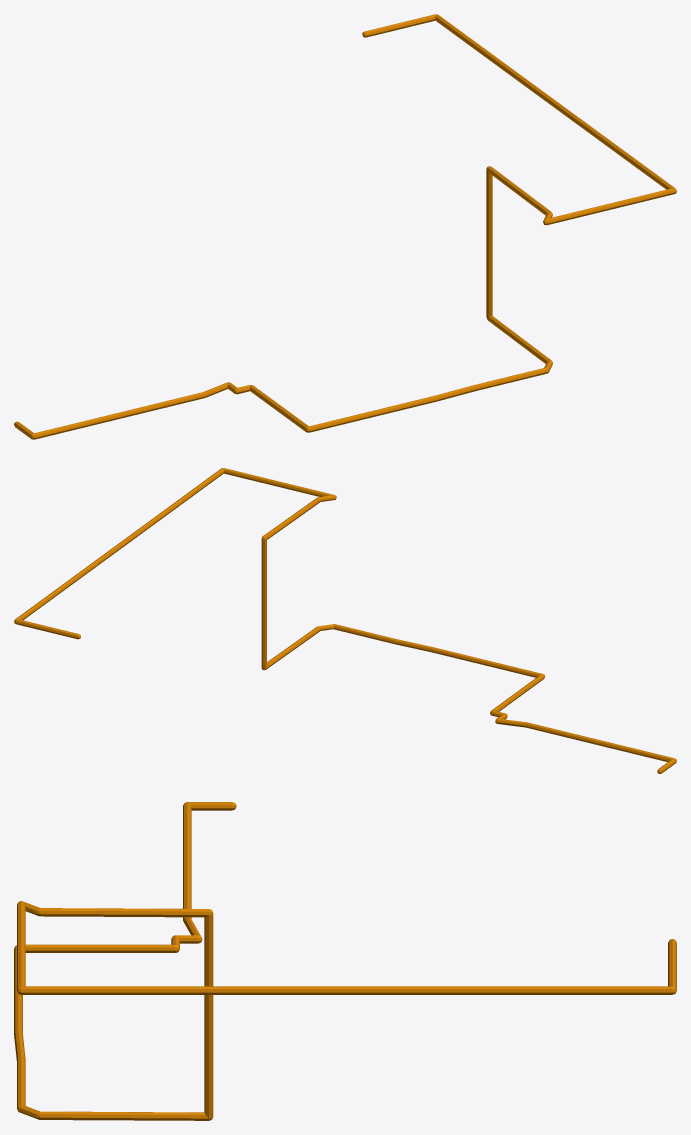
3 views of the same model, one above another, from view 1: azimuth 30°, elevation 25°; view 2: azimuth 150°, elevation 25°; view 3: azimuth 270°, elevation 25° (orthographic). The views are drawn at different scales.
Size of the model in its own units: 2063 by 520 by 1476.
